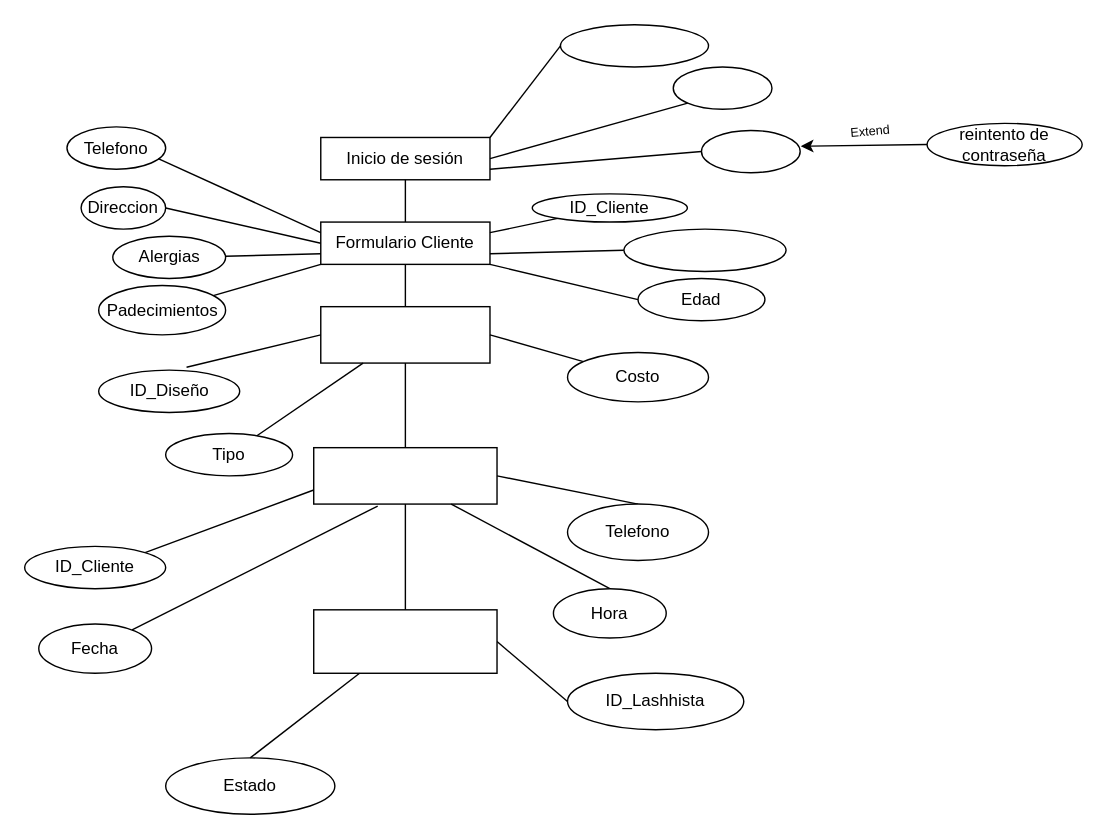
Some shapes in this 1107 by 839 pixel diagram are drawn without their labels. Here are the shapes that lost their labels. From the top down, the box of each, then its label:
(559, 23, 709, 67): ID_Lashista
(672, 66, 772, 109): Usuario
(700, 129, 800, 173): Contraseña
(623, 228, 786, 271): Nombre_completo
(319, 305, 490, 363): Diseño de pestañas y precio
(312, 446, 497, 504): Citas
(312, 608, 497, 673): Cierre_de_sesion
